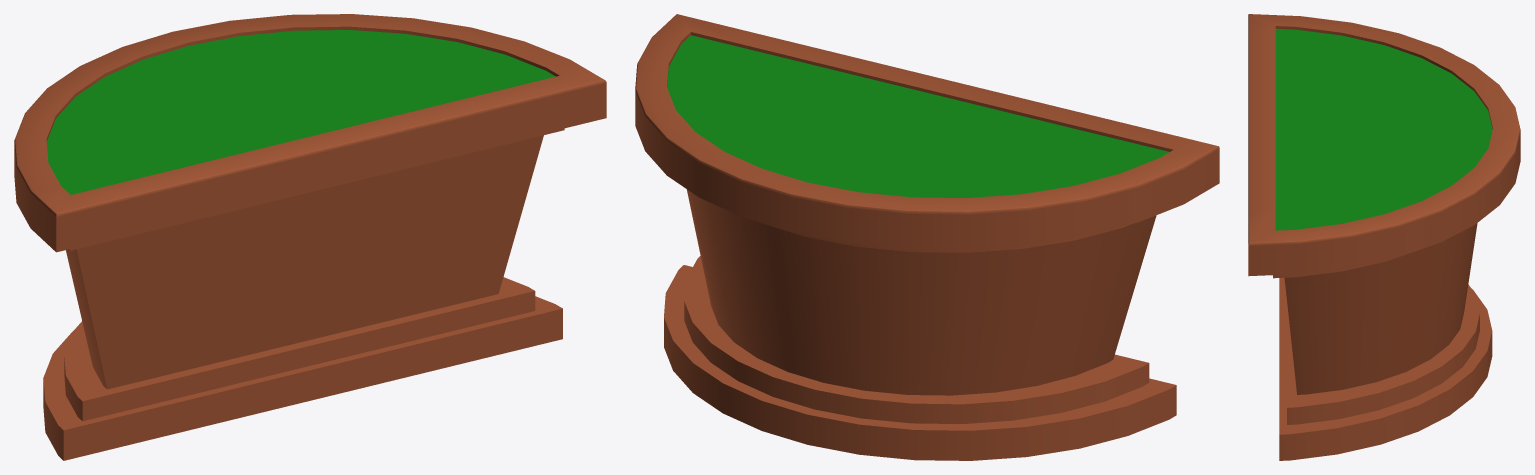
File: blackjacktable.fbx
The picture shows the model from 3 angles, left to right: view 1: azimuth 30°, elevation 25°; view 2: azimuth 150°, elevation 25°; view 3: azimuth 270°, elevation 25°; orthographic projection. The views are drawn at different scales.
Visible parts, largest first — view 1: Circle.002; view 2: Circle.002; view 3: Circle.002.
Boxes of the visible parts, left/top/right/bottom form: Circle.002: left=14, top=14, right=606, bottom=460; Circle.002: left=635, top=14, right=1219, bottom=460; Circle.002: left=1248, top=14, right=1520, bottom=460.
Bounding box in the file's own units: 304 × 141 × 152.
